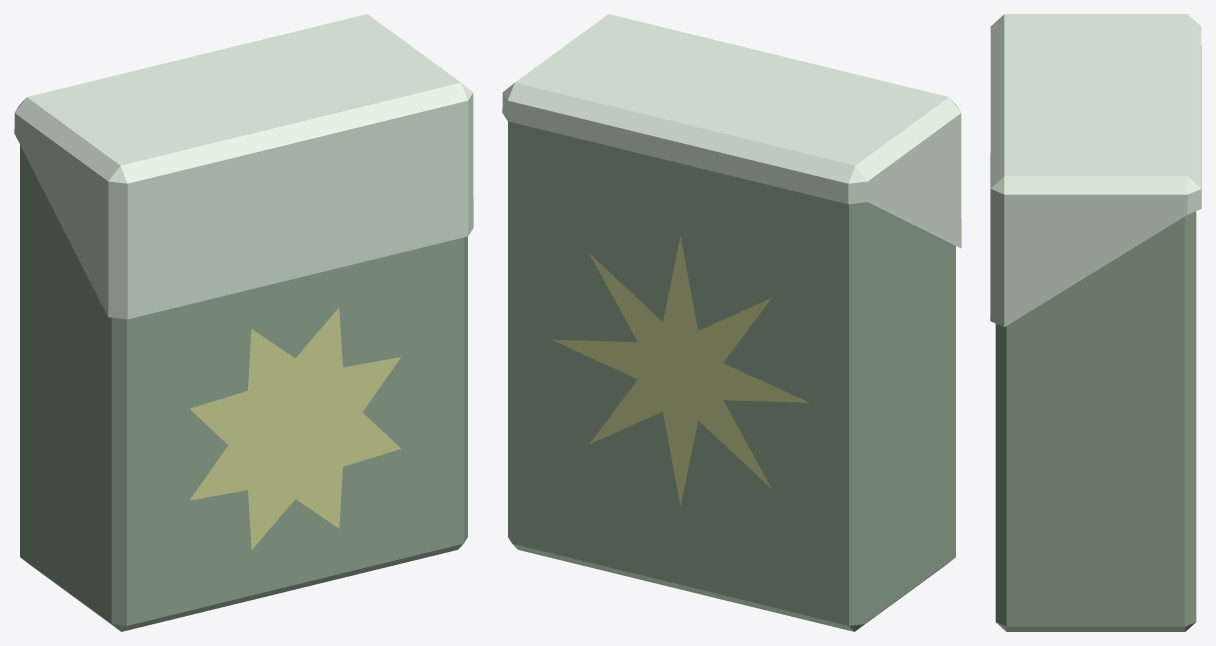
File: Candy_2b.fbx
3 views of the same model, side by side, from view 1: azimuth 30°, elevation 25°; view 2: azimuth 150°, elevation 25°; view 3: azimuth 270°, elevation 25° (orthographic). The views are drawn at different scales.
Visible parts, largest first — view 1: Candy_2b; view 2: Candy_2b; view 3: Candy_2b.
Part boxes in pixels (x1,y1,x2,y2): Candy_2b: [14, 14, 473, 631]; Candy_2b: [502, 14, 961, 631]; Candy_2b: [990, 14, 1201, 631].
Size of the model in its own units: 8.2 by 10.03 by 4.2.
